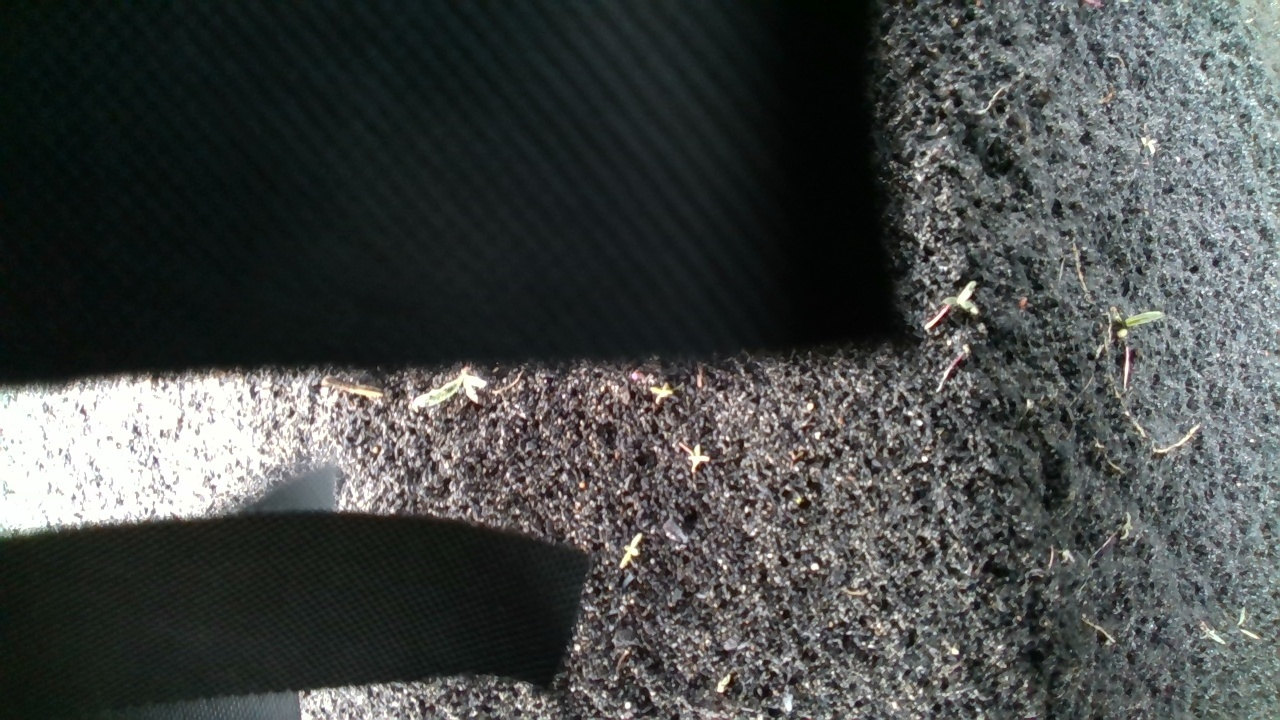weed: (1106, 305, 1160, 346)
